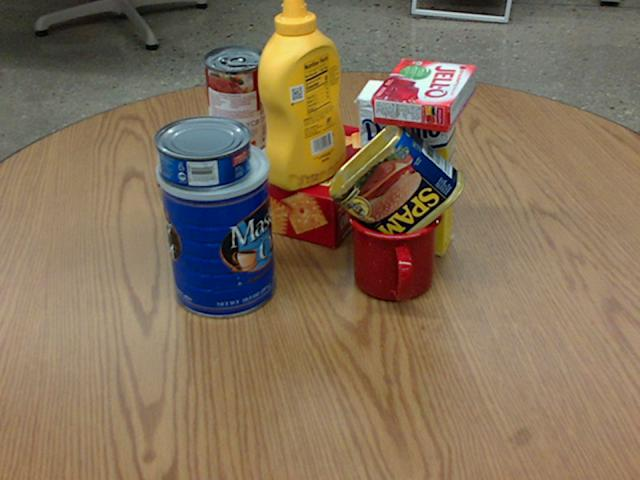cracker_box: (163, 103, 393, 248)
gelatin_box: (372, 58, 476, 131)
large_marker: (172, 139, 200, 244)
master_chef_can: (154, 136, 277, 316)
mug: (347, 189, 445, 303)
mustard_bottle: (259, 0, 346, 189)
potted_meat_can: (328, 119, 464, 252)
sugar_box: (358, 79, 458, 258)
tomato_soup_can: (203, 45, 268, 153)
tuna_fish_can: (153, 114, 251, 188)
